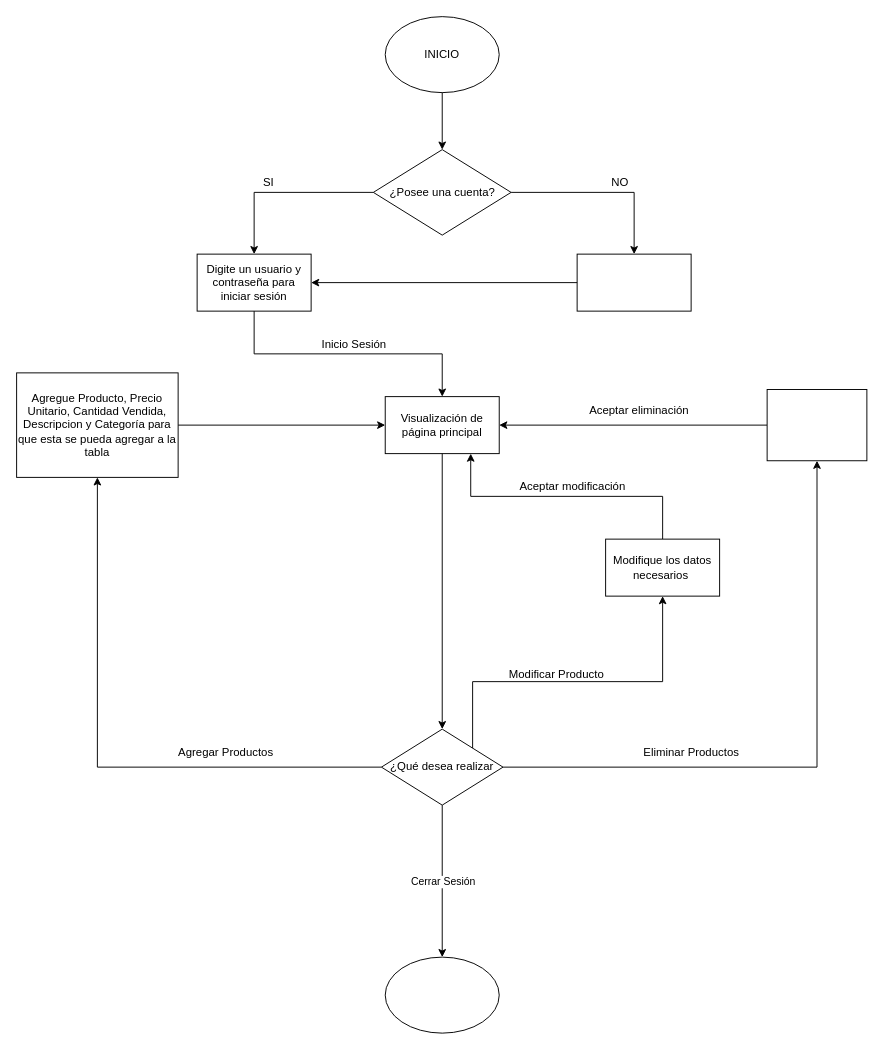
The diagram is 884 pixels wide and 1050 high, and some of its shapes have lost their labels. The shapes that lost their labels are listed below. From the top down, each one's centre as x and y in pixels, then its label:
At [633,282]: "Digite un usuario, contraseña, DUI, Correo para crear una cuenta".
At [816,425]: "Escoga el producto ha eliminar de la tabla".
At [441,994]: "FIN".
